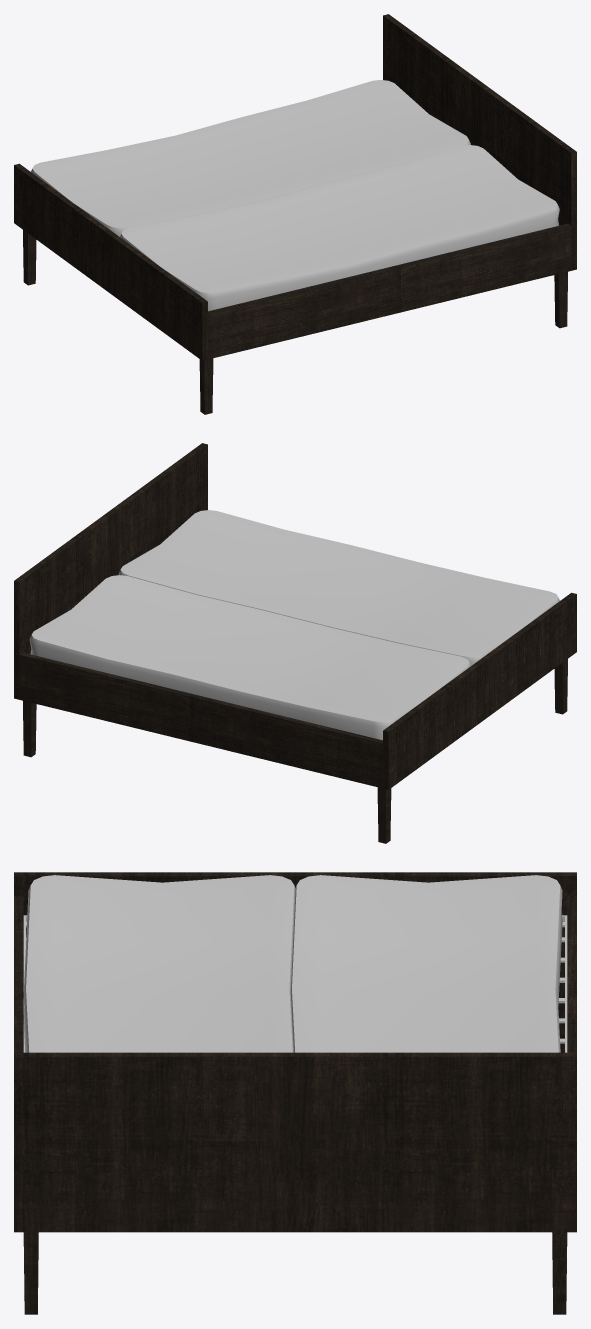
File: bed_4_2.obj
3 renders of one model, top to bottom at view 1: azimuth 30°, elevation 25°; view 2: azimuth 150°, elevation 25°; view 3: azimuth 270°, elevation 25°, orthographic. The views are drawn at different scales.
Parts seen in each view (by area): view 1: bed_4_2; view 2: bed_4_2; view 3: bed_4_2.
Boxes of the visible parts, left/top/right/bottom form: bed_4_2: left=14, top=14, right=576, bottom=414; bed_4_2: left=14, top=443, right=576, bottom=843; bed_4_2: left=14, top=872, right=576, bottom=1314.
Bounding box in the file's own units: 2.7 × 1.21 × 2.35.
